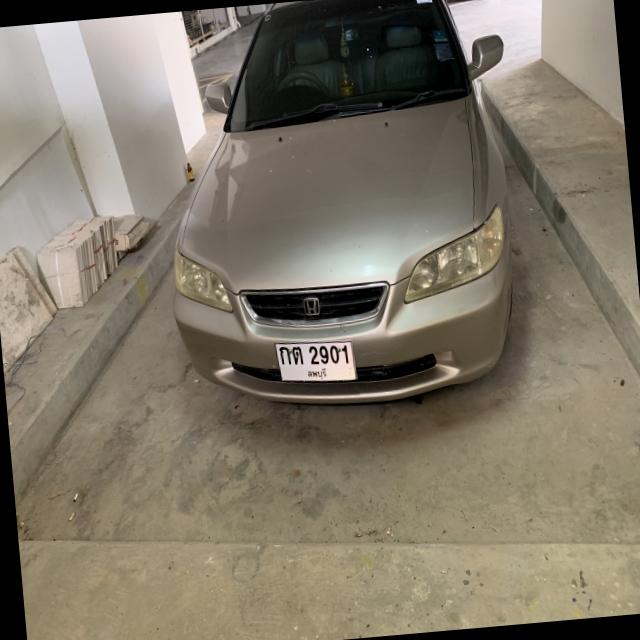license_plate: (274, 333, 359, 388)
